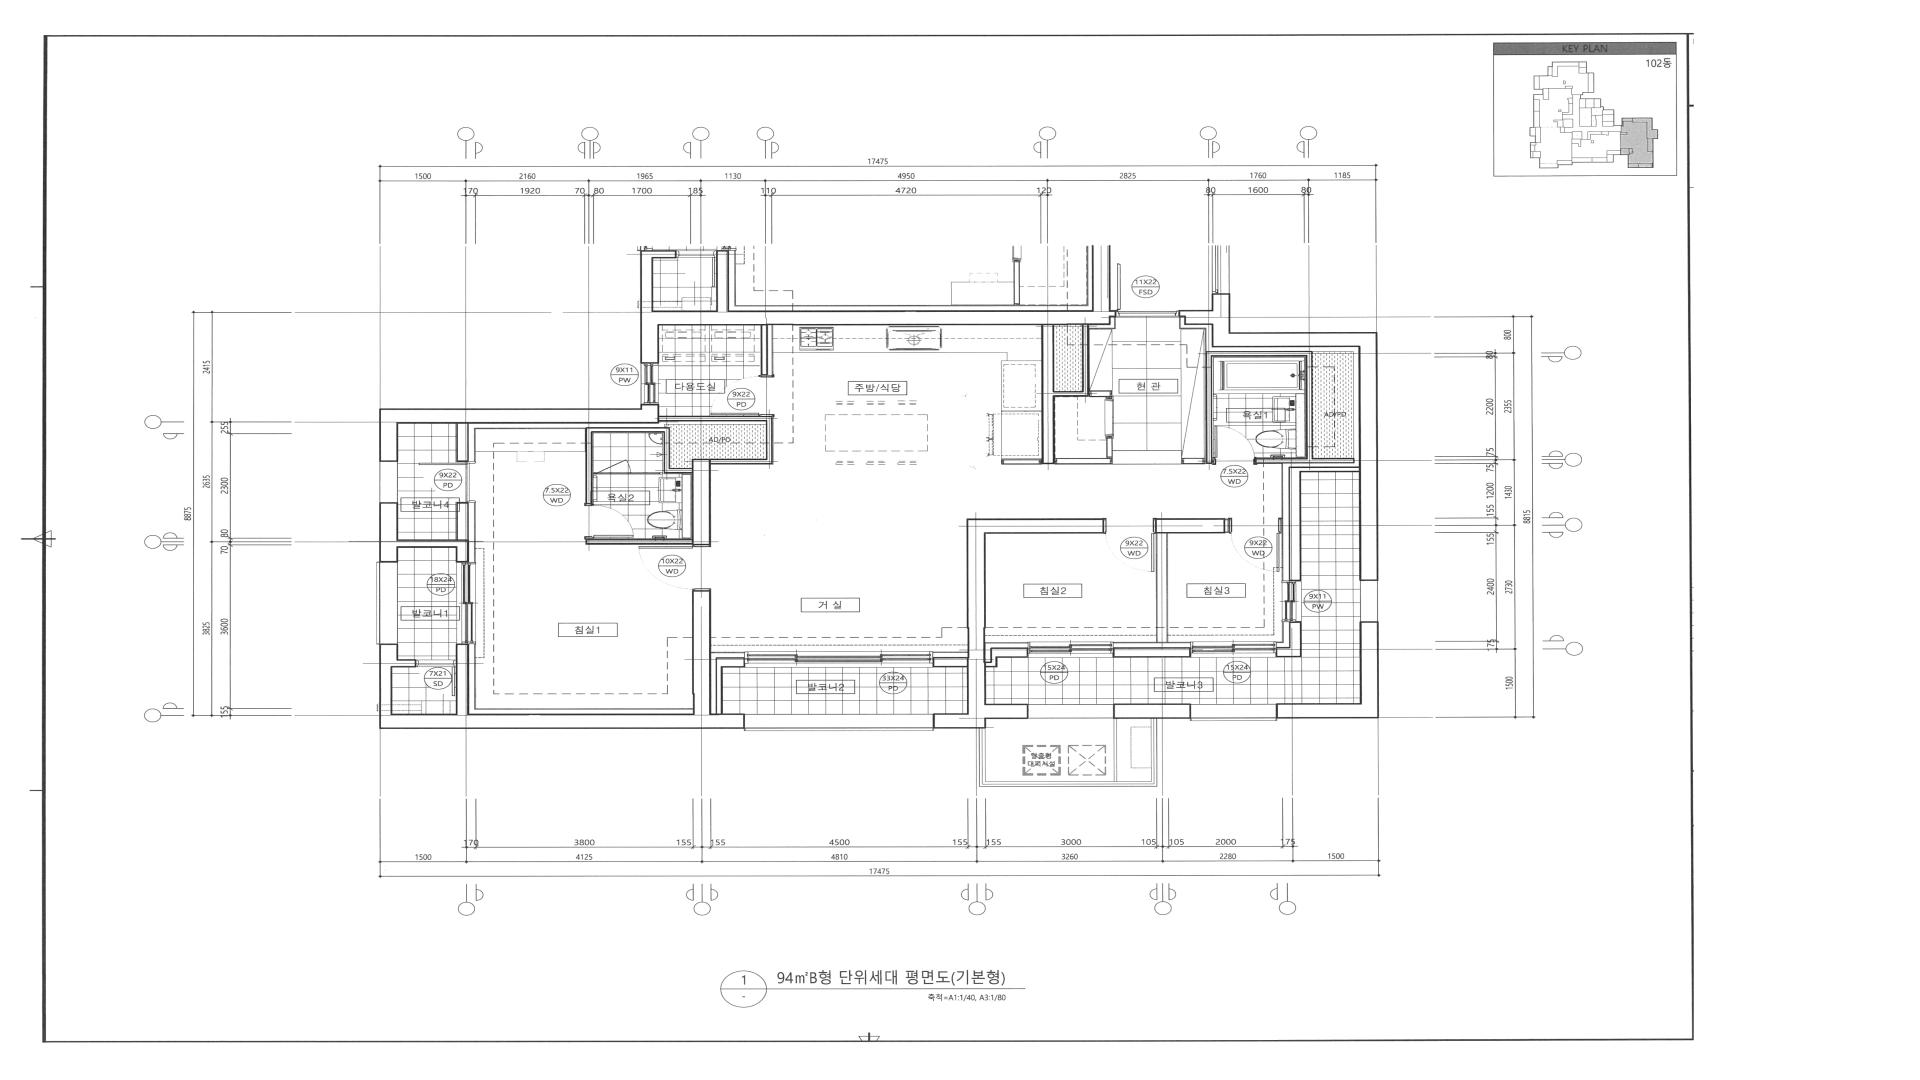door: (1116, 264, 1180, 316), (638, 545, 711, 589), (1228, 518, 1283, 572), (1104, 518, 1156, 572), (711, 375, 774, 417), (418, 463, 476, 502), (585, 502, 633, 539), (1212, 426, 1257, 464), (415, 659, 456, 696), (593, 459, 630, 475), (1105, 397, 1114, 439)
wall: (1179, 310, 1378, 582), (380, 589, 745, 729), (932, 518, 1104, 729), (640, 310, 1117, 364), (1205, 351, 1354, 464), (380, 404, 659, 462), (1275, 621, 1379, 719), (585, 427, 692, 502), (1288, 467, 1358, 582), (1042, 324, 1089, 464), (659, 415, 774, 464), (378, 502, 469, 563), (716, 657, 745, 713), (692, 459, 711, 545), (1155, 534, 1168, 642), (1113, 703, 1191, 719), (1156, 518, 1228, 534), (1276, 621, 1302, 657), (985, 647, 1029, 667), (1113, 647, 1191, 658), (585, 539, 692, 545), (456, 423, 469, 462), (456, 502, 469, 539), (932, 657, 968, 667), (761, 326, 767, 375), (1055, 459, 1113, 464), (1001, 459, 1042, 464), (1089, 390, 1113, 397), (1182, 458, 1204, 464), (1106, 439, 1113, 459), (630, 472, 662, 475), (1002, 459, 1042, 460)
window: (745, 713, 932, 731), (745, 651, 932, 667), (455, 562, 477, 644), (376, 563, 398, 644), (1191, 641, 1276, 658), (1191, 704, 1275, 721), (1027, 642, 1113, 658), (1029, 704, 1113, 719), (1282, 582, 1302, 621), (1360, 580, 1378, 621), (380, 462, 398, 502), (641, 363, 658, 404)
